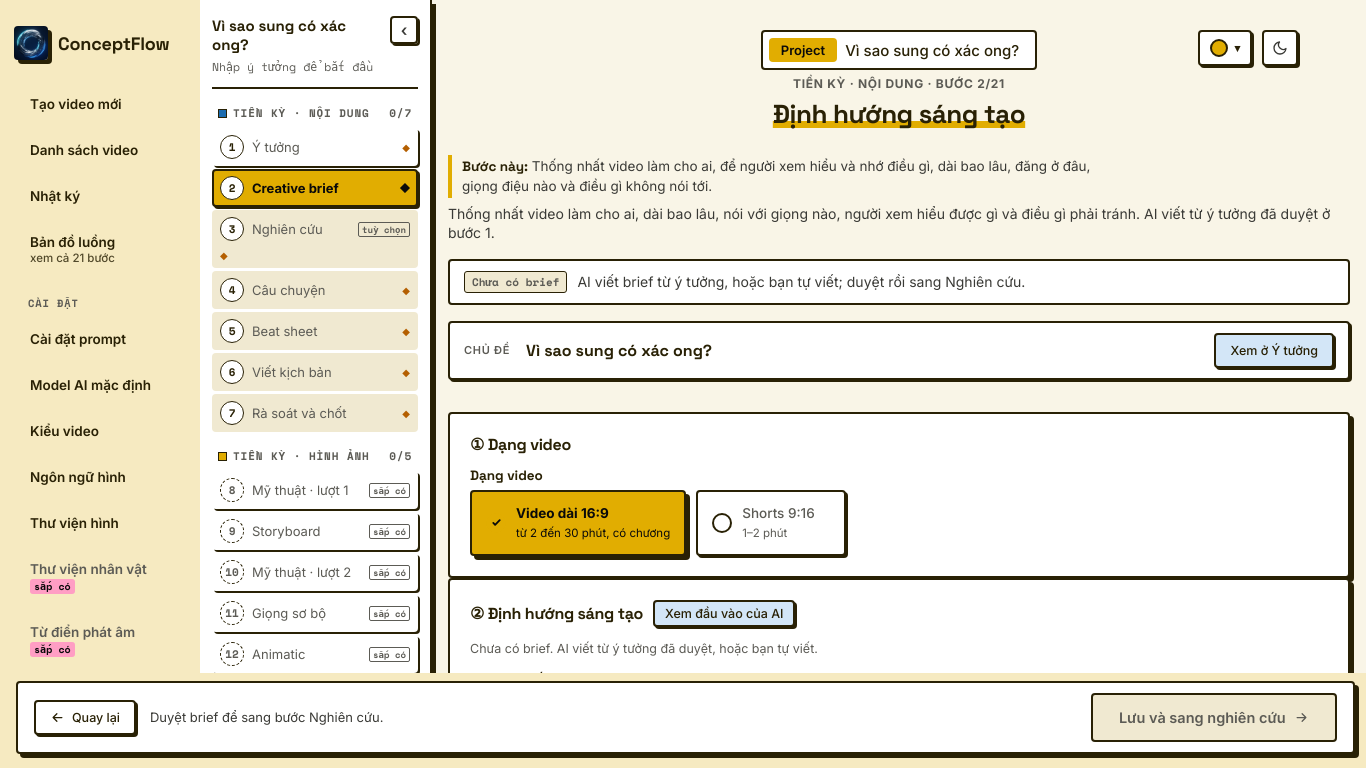
Test case: CreativeBriefStepPage (Bước 2 — Creative brief) › hiện dạng video, ý tưởng đã duyệt và thẻ brief, không còn ô thời lượng, nền tảng và ngôn ngữ
The width and height of the screenshot is (1366, 768).
Check: the element with test id "brief-form-card" is shown, box [448, 412, 1350, 578]
Check: the heading "Định hướng sáng tạo" is shown, box [773, 97, 1025, 131]
Click the button with test id "brief-input-open" at (724, 613), box [653, 600, 796, 627]
(page scrolled)
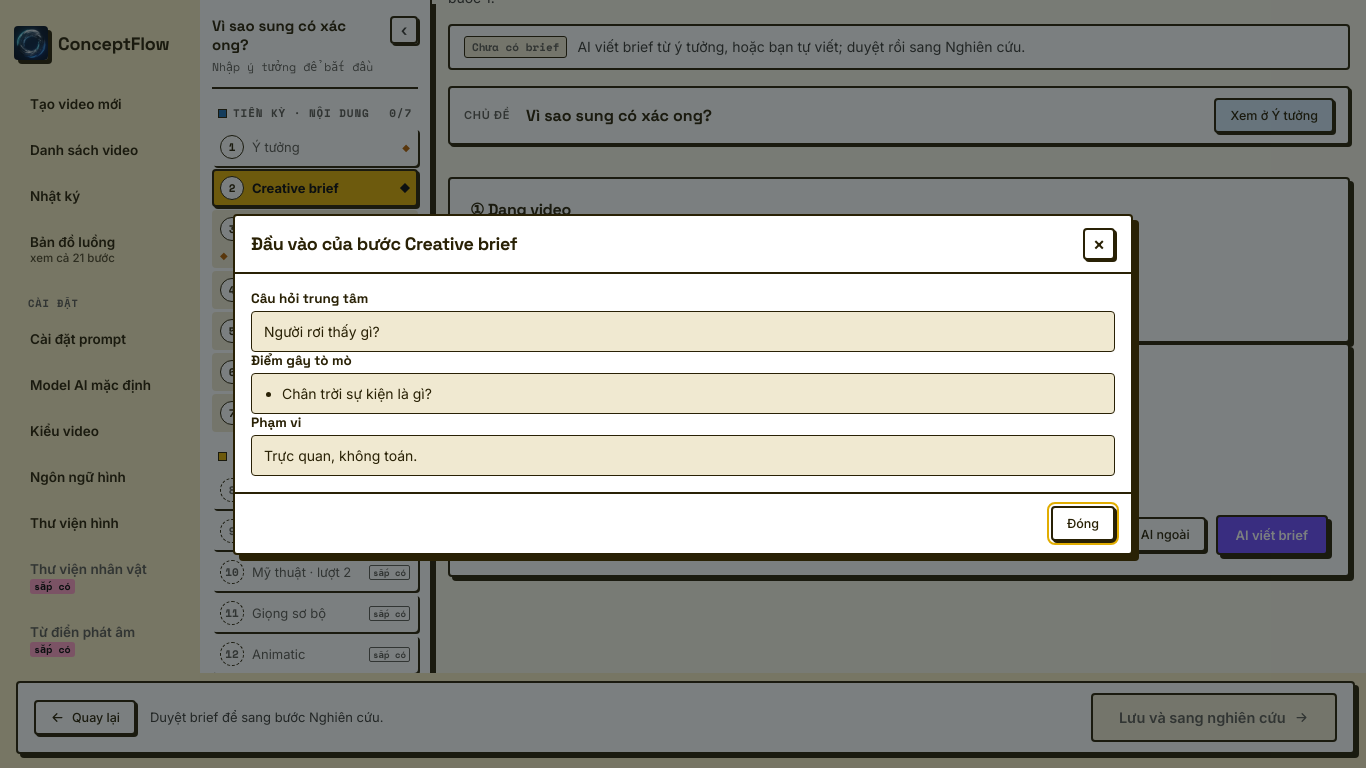
Check: the element with test id "brief-card" is shown, box [448, 343, 1350, 577]
Check: the text with test id "brief-idea-question" reads "Người rơi thấy gì?", box [264, 322, 380, 340]
